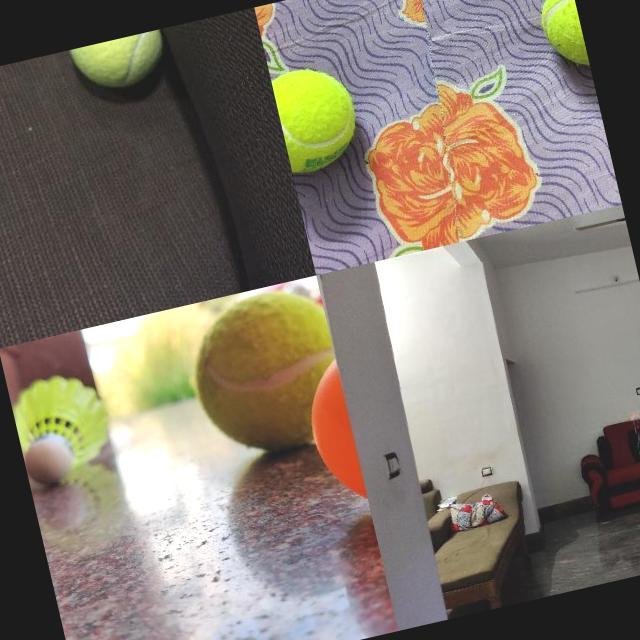tennis-ball: (175, 290, 314, 468), (270, 58, 366, 176), (66, 28, 172, 99), (531, 0, 589, 75)
